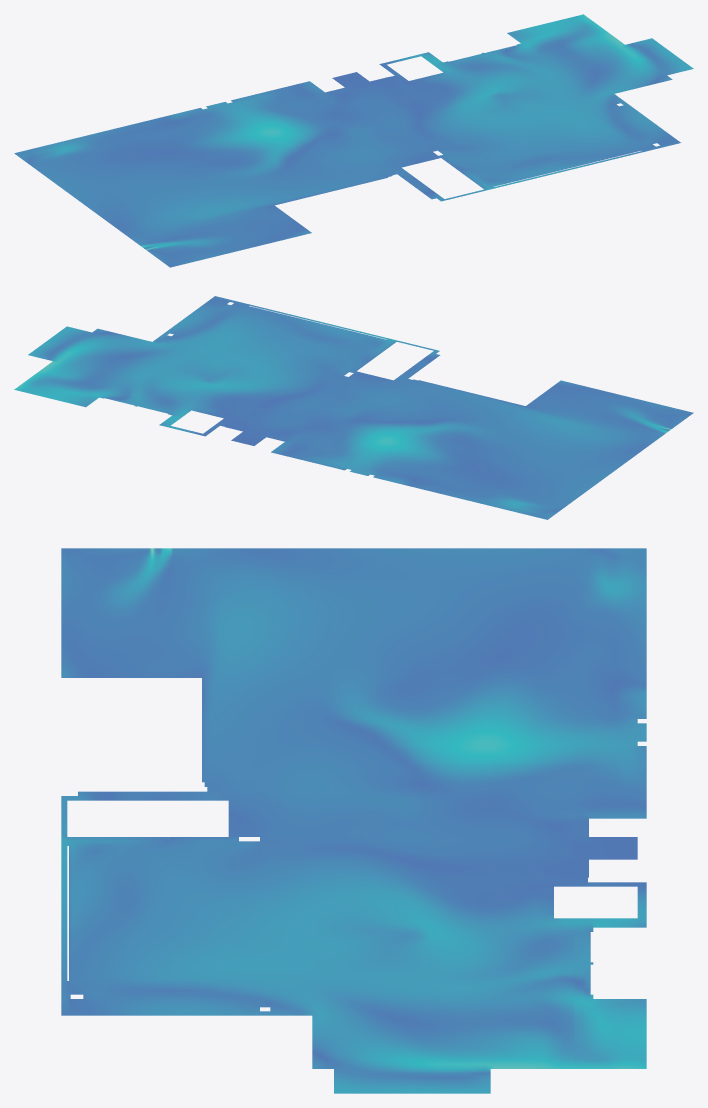
Rendered from A_velocity_z1.7.glb.
The picture shows the model from 3 angles, top to bottom: view 1: azimuth 30°, elevation 25°; view 2: azimuth 150°, elevation 25°; view 3: azimuth 270°, elevation 25°; orthographic projection. The views are drawn at different scales.
Size of the model in its own units: 7.18 by 0 by 3.26.
